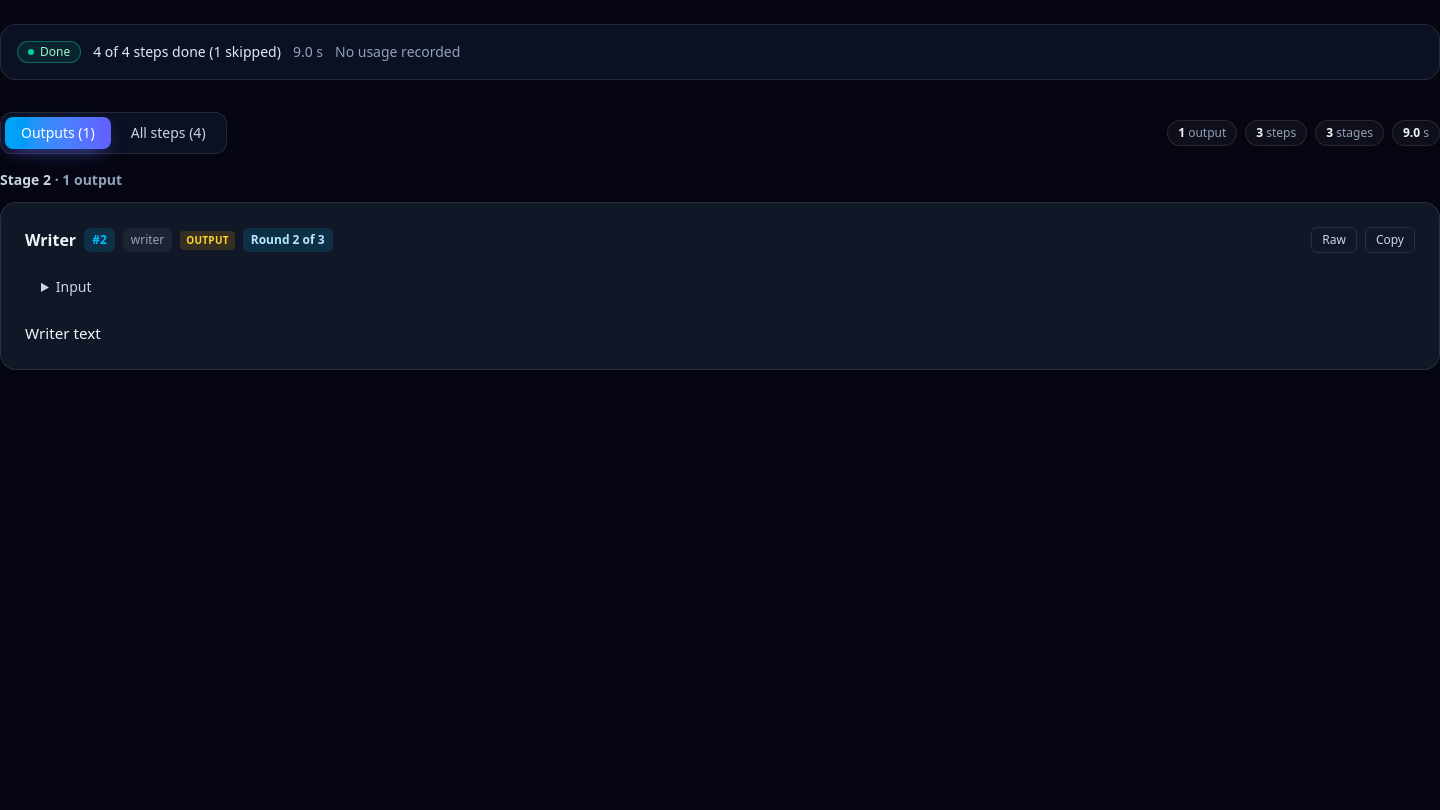
Test case: LiveRun: review rounds › tells what the reviewer’s last answer led to: no verdict after being sent back
The width and height of the screenshot is (1440, 810).
Click the tab "All steps (4)" at coordinates (168, 133), box [115,117,222,149]
(page scrolled)
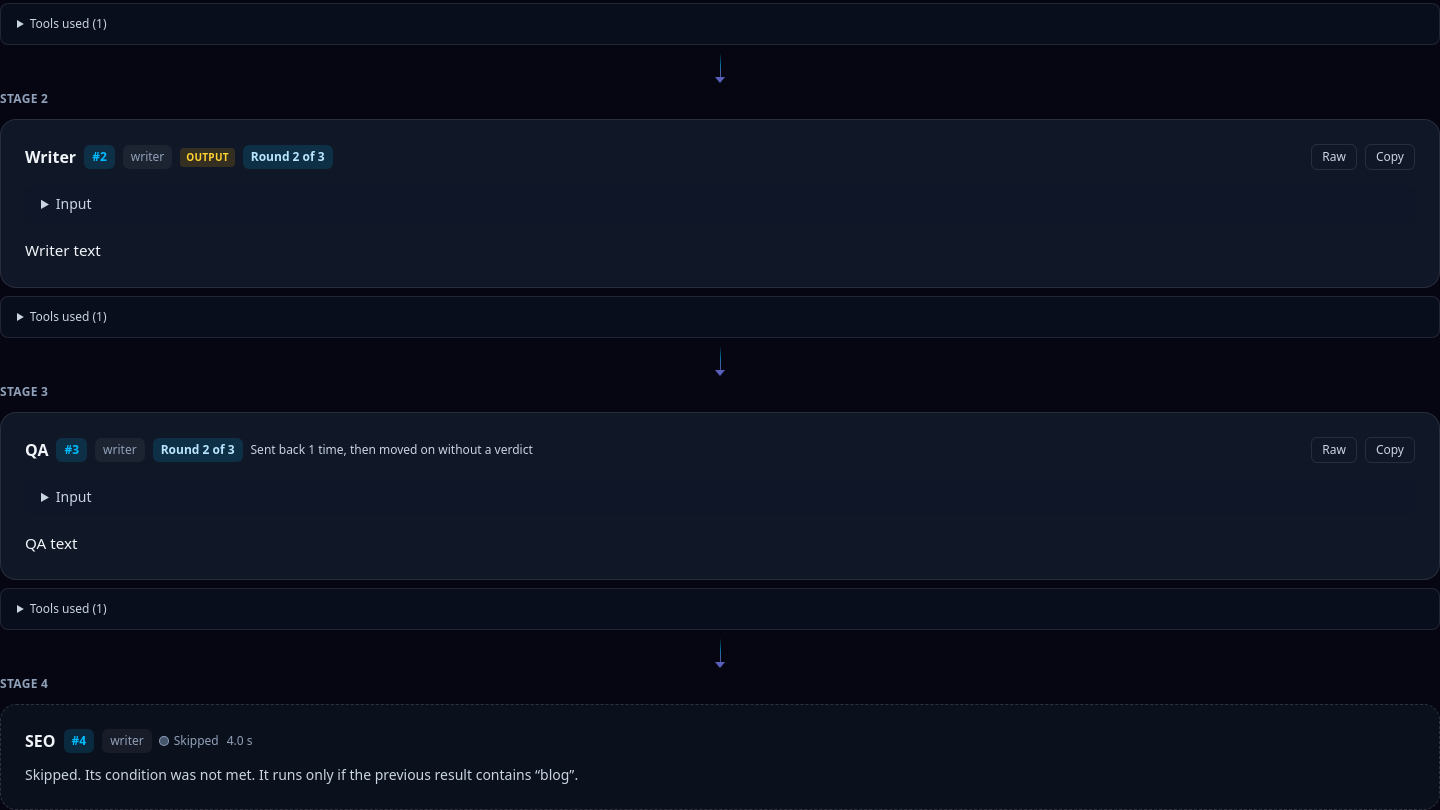
Expected: the text "Sent back 1 time, then moved on without a verdict" is shown, [250,442,533,458]
